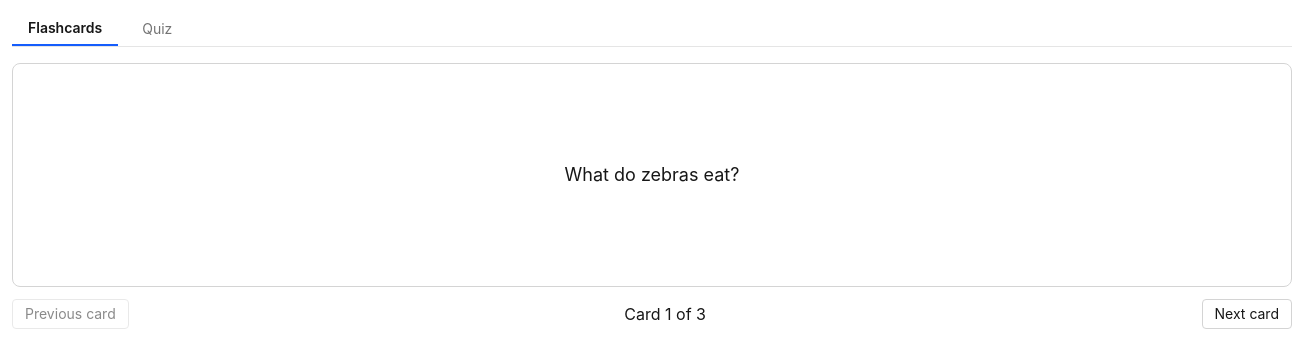
it: flips flashcards and moves between them
Check: the text "Card 1 of 3" is shown, box 624,302 -> 706,326
Check: the button "Previous card" is disabled, box 12,299 -> 129,329
What coordinates should you click on to do the following:
click the button with aria-label "Flashcard front: What do zebras eat"
I would click on:
 (652, 175)
Its box is 12,63 -> 1292,287.
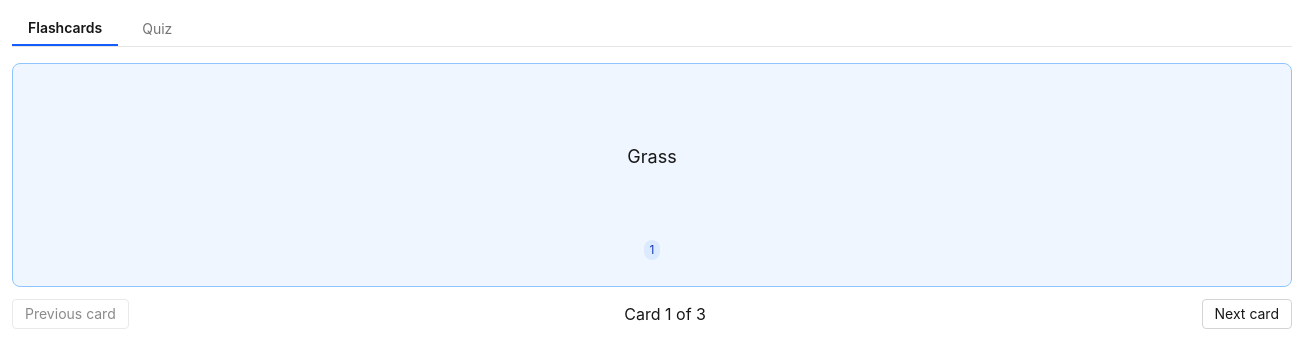
Check: the button named "Citation 1: Doc.pdf" is shown, box 644,240 -> 660,260
Check: the element with test id "card" has attribute data-flipped="true"
What coordinates should you click on to do the following:
click the button with aria-label "Flashcard back: Grass"
I would click on:
 (652, 157)
Its box is 37,88 -> 1267,226.
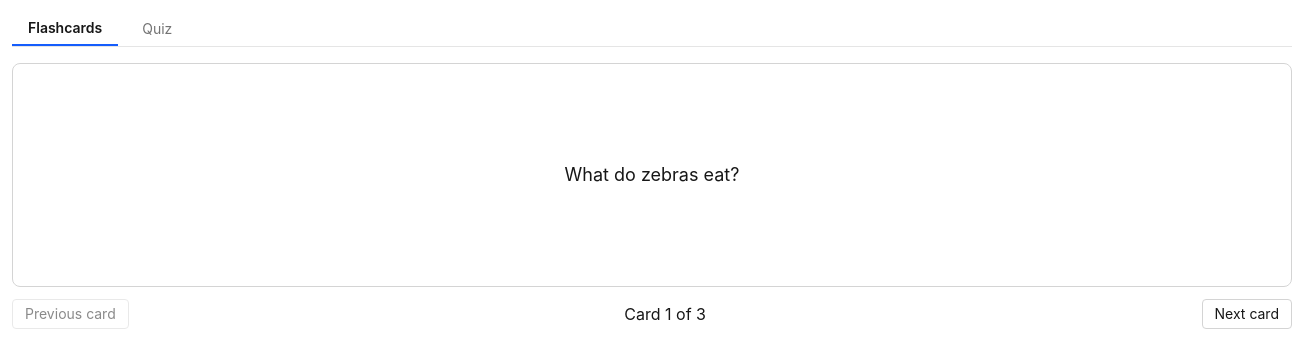
Check: the element with test id "card" has attribute data-flipped="false"
What coordinates should you click on to do the following:
click the button "Next card"
I would click on:
 (1247, 314)
Its box is 1202,299 -> 1292,329.
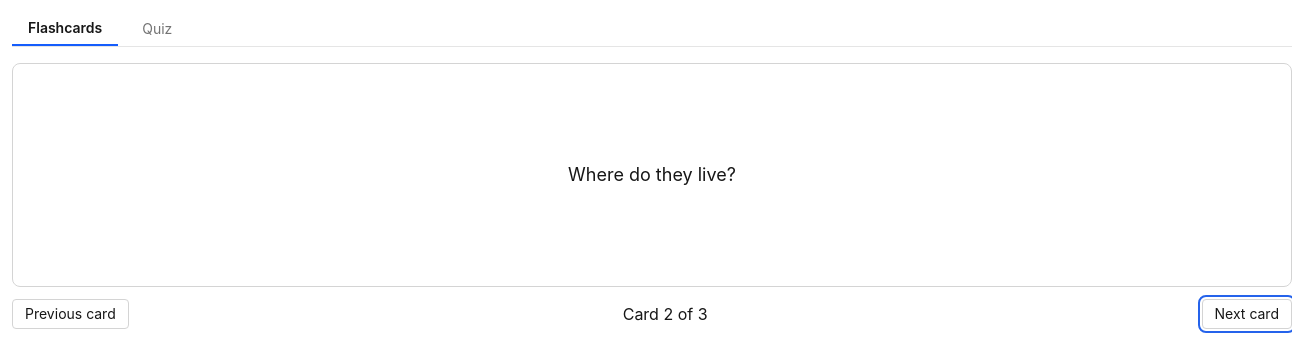
Check: the text "Card 2 of 3" is shown, box 623,302 -> 708,326
Check: the button with aria-label "front: Where do they live" is shown
What coordinates should you click on to do the following:
click the button "Next card"
I would click on:
 (1247, 314)
Its box is 1202,299 -> 1292,329.
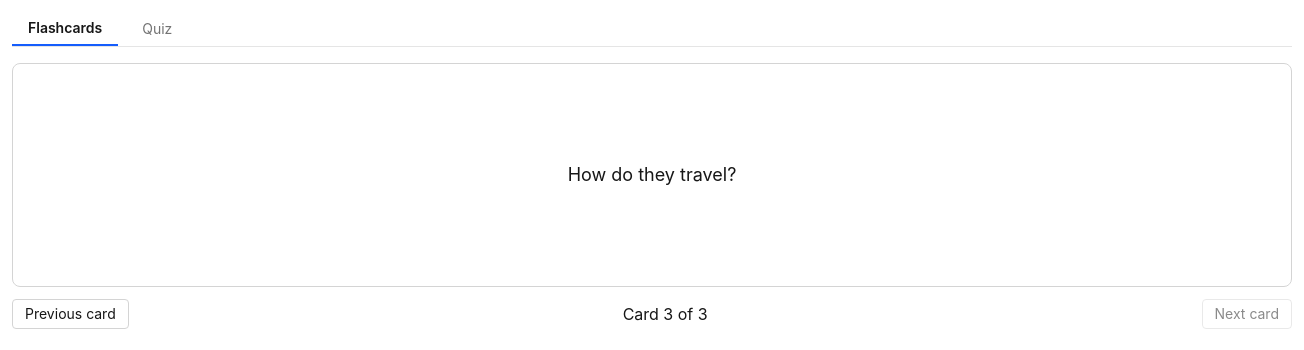
Check: the button "Next card" is disabled, box 1202,299 -> 1292,329
What coordinates should you click on to do the following:
click the button "Previous card"
I would click on:
 (70, 314)
Its box is 12,299 -> 129,329.
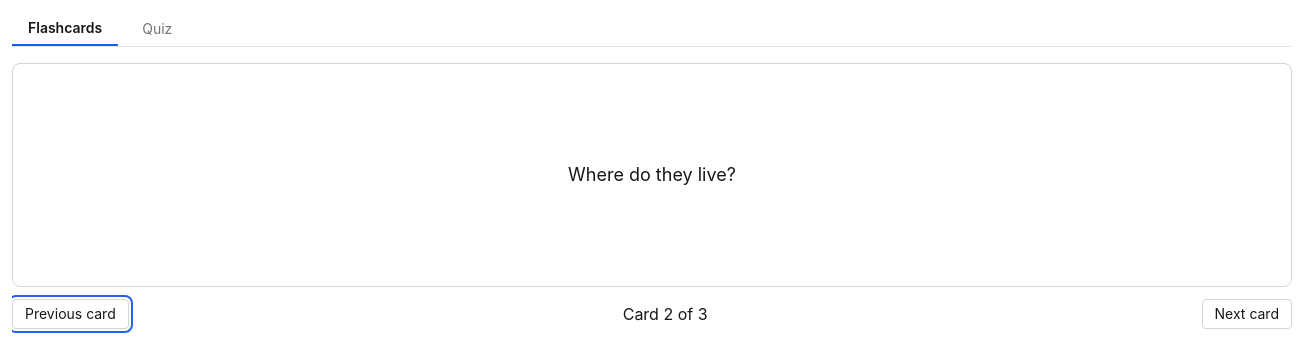
Check: the text "Card 2 of 3" is shown, box 623,302 -> 708,326
